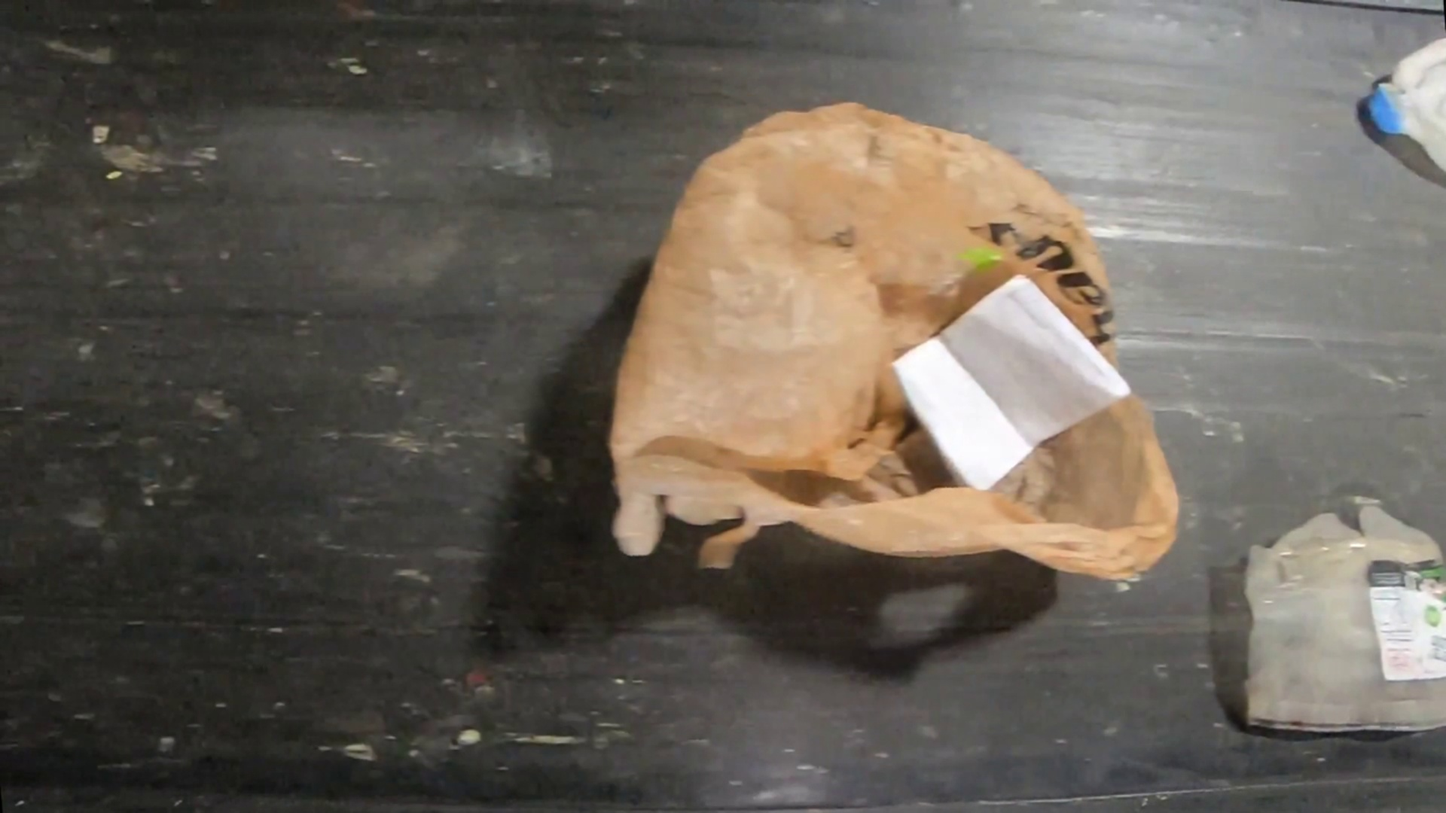plastic: (607, 100, 1184, 586), (1240, 500, 1446, 733), (1363, 35, 1446, 177)
